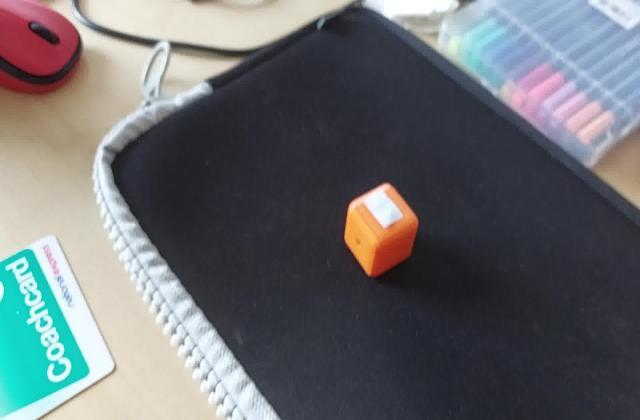sticker: (341, 182, 421, 281)
white: (365, 198, 406, 228)
